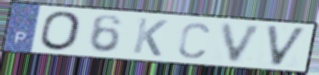6: (88, 13, 124, 54)
C: (176, 20, 212, 60)
K: (130, 16, 170, 58)
O: (39, 10, 84, 53)
V: (264, 24, 310, 69), (219, 22, 266, 65)
